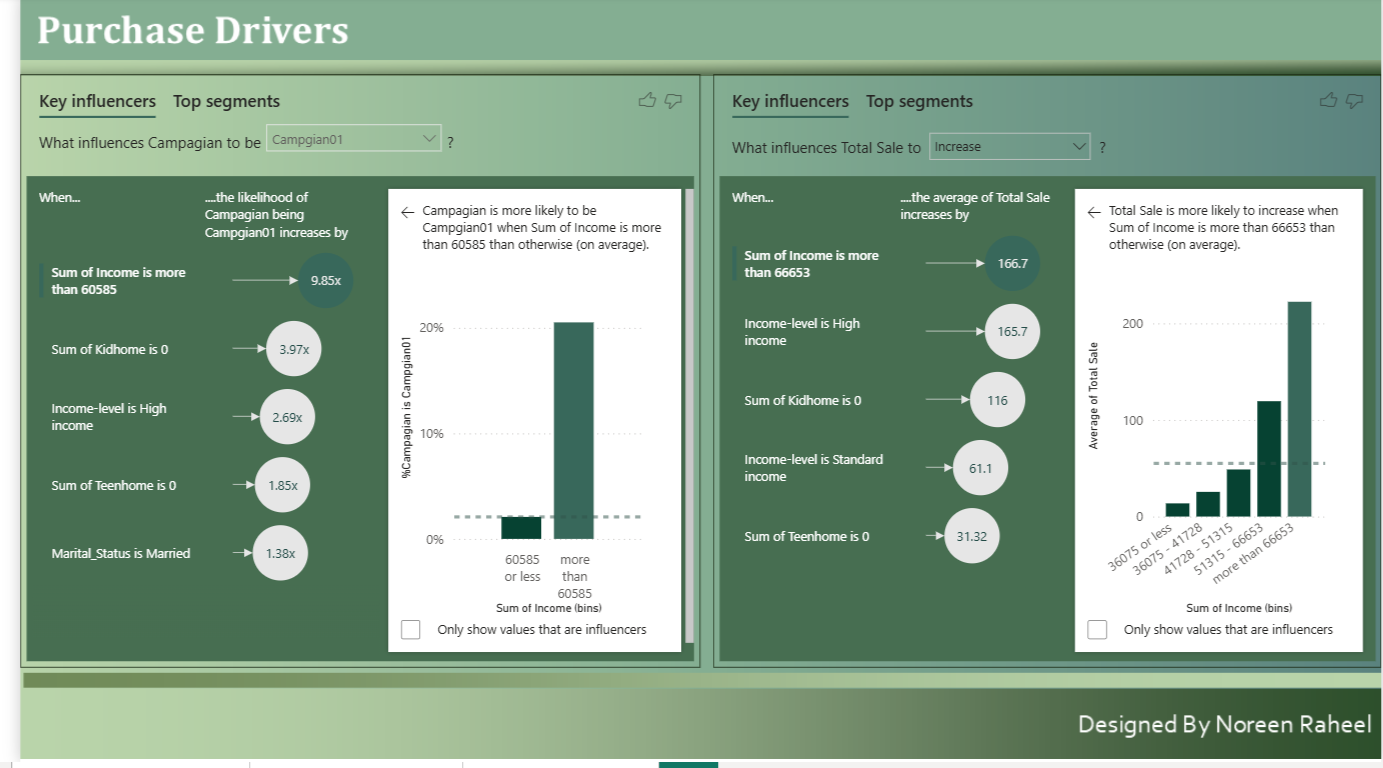

The page's visual inventory and layout, read from the dashboard file:
{"tool":"powerbi","page":{"name":"Purchase Drivers","canvas":[1280,720],"ordinal":2},"visuals":[{"type":"keyDriversVisual","fields":{"ExplainBy":["Sum(Research Data. Income )","Sum(Research Data.Age)","Research Data.Country","Research Data.Education","Research Data.Income-level","Research Data.Marital_Status","Sum(Research Data.Recency)","Sum(Research Data.Kidhome)","Sum(Research Data.Teenhome)"],"Target":["Campgians.Campagian"]},"box":[0,73.5,639.3,558],"z":0},{"type":"keyDriversVisual","fields":{"ExplainBy":["Sum(Research Data. Income )","Sum(Research Data.Age)","Research Data.Country","Research Data.Education","Research Data.Income-level","Research Data.Marital_Status","Sum(Research Data.Recency)","Sum(Research Data.Teenhome)","Sum(Research Data.Kidhome)"],"Target":["Total Sales.Total Sale"]},"box":[652.1,74,628.5,557.6],"z":1000}]}

Visuals, with their boxes in screenshot pixels (x1, y1, x2, y2), scaled from the page's 1280x720 canvas onto the 1383x768 screenshot:
keyDriversVisual - Sum(Research Data. Income ) x Sum(Research Data.Age): [0,78,691,674]
keyDriversVisual - Sum(Research Data. Income ) x Sum(Research Data.Age): [705,79,1382,674]
